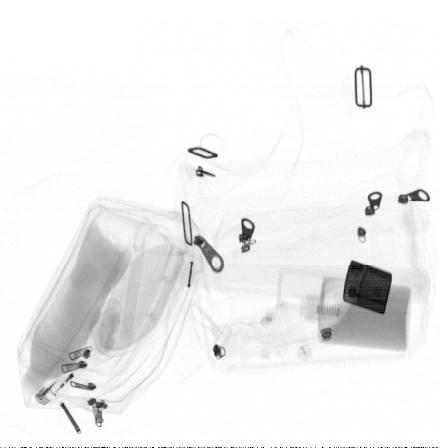Lighter: (343, 259, 393, 316), (34, 356, 82, 406)
